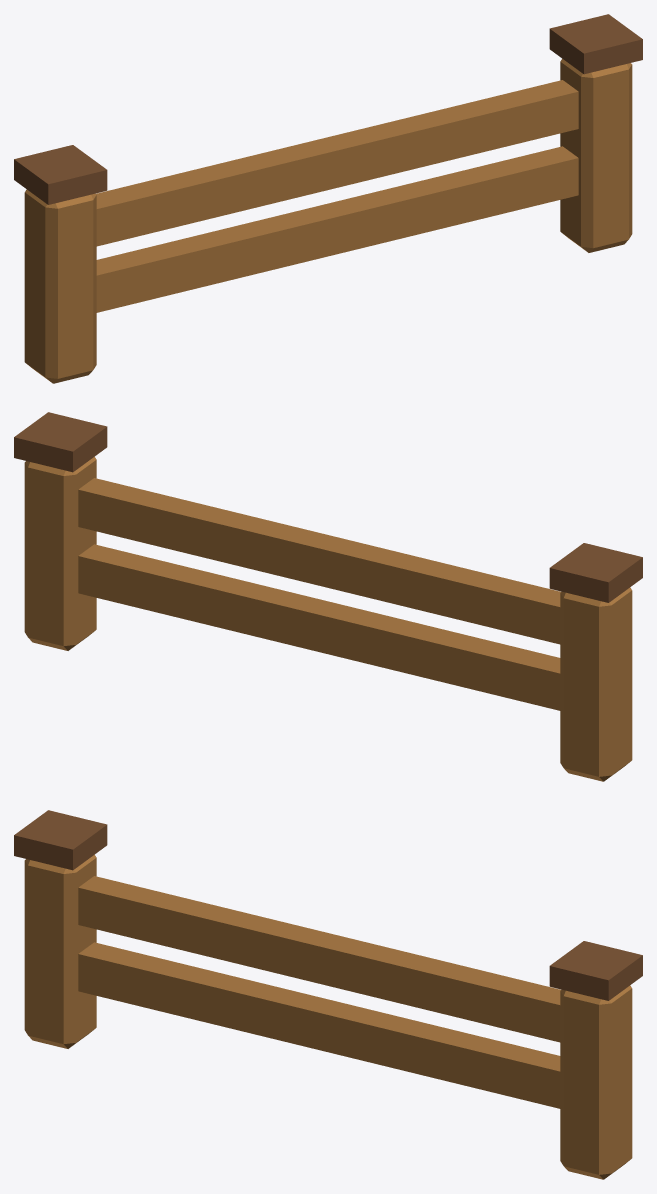
Rendered from env_r1_fence.glb.
The picture shows the model from 3 angles, top to bottom: view 1: azimuth 30°, elevation 25°; view 2: azimuth 150°, elevation 25°; view 3: azimuth 330°, elevation 25°; orthographic projection.
Visible parts, largest first — view 1: env_r1_fence; view 2: env_r1_fence; view 3: env_r1_fence.
Part boxes in pixels (left/top/right/bottom): env_r1_fence: left=14, top=14, right=642, bottom=383; env_r1_fence: left=14, top=412, right=642, bottom=781; env_r1_fence: left=14, top=810, right=642, bottom=1179.
Size of the model in its own units: 3 by 1 by 0.3.
Materials: 1 (1 with a texture image).
